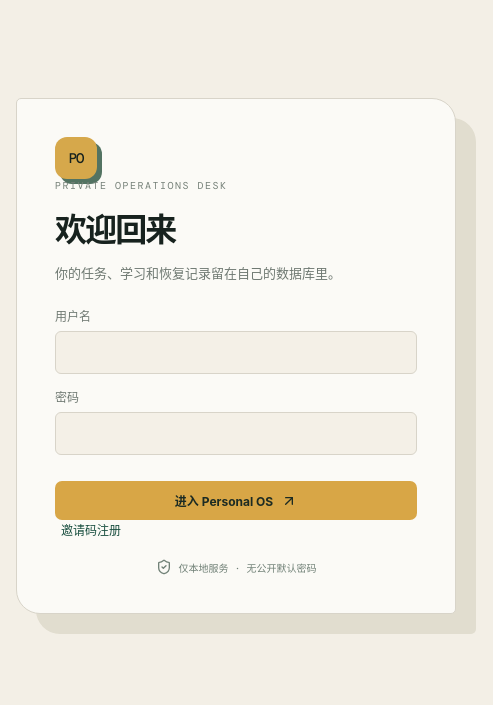
Personal OS authenticated task workflow › does not automatically retry an uncertain registration response and explains login recovery
The width and height of the screenshot is (493, 705).
(page scrolled)
Click the button "邀请码注册" at (91, 530), box left=55, top=520, right=127, bottom=539
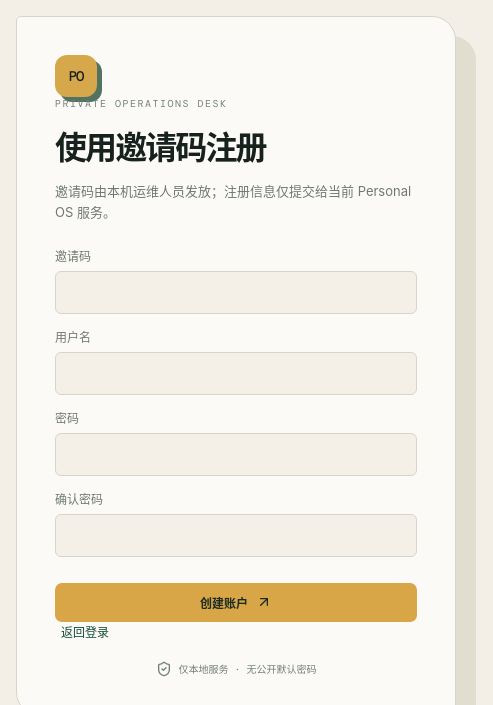
Type "synthetic-invitation" into the field labelled "邀请码" at (236, 292), box left=55, top=271, right=417, bottom=314
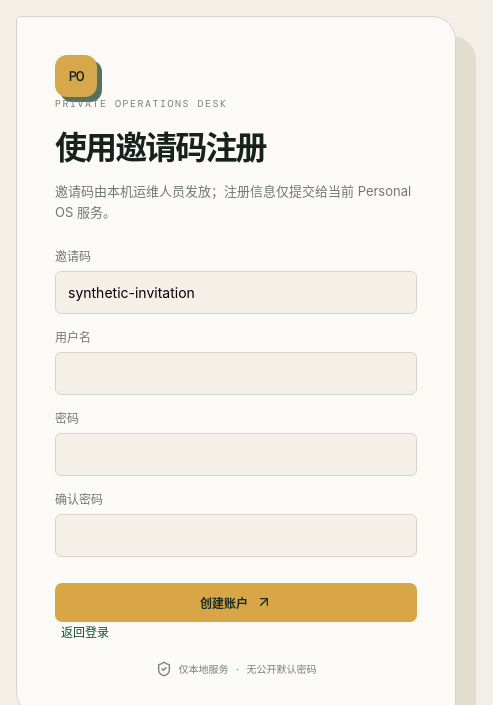
Type "new.user" into the field labelled "用户名" at (236, 373), box left=55, top=352, right=417, bottom=395
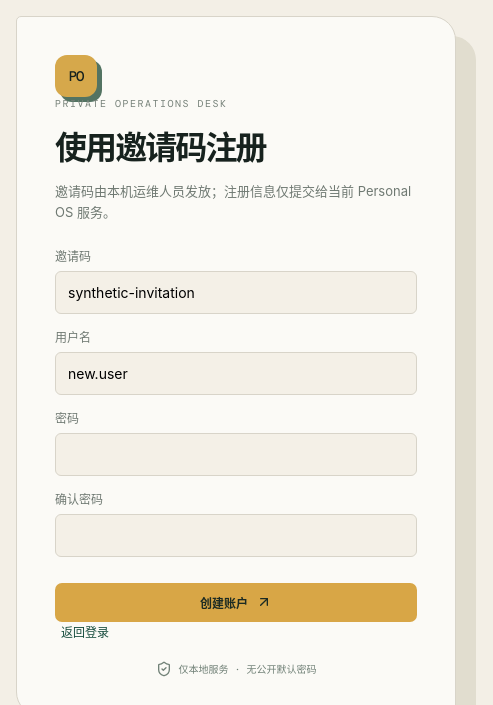
Type "Strong-Password-2026!" into the password field labelled "密码" at (236, 454), box left=55, top=433, right=417, bottom=476
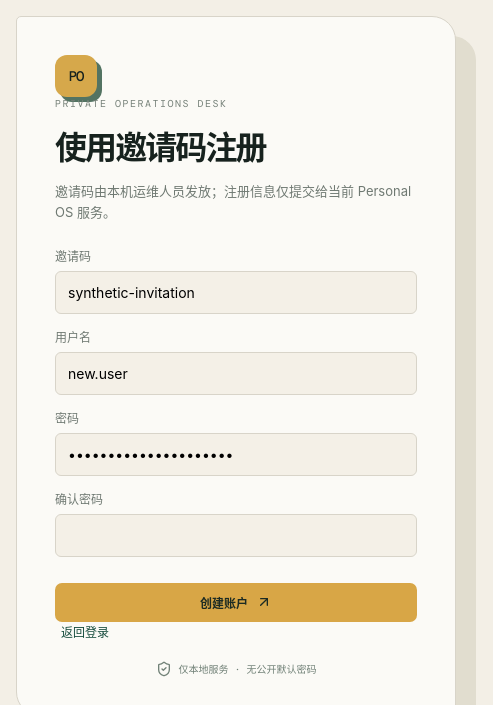
Type "Strong-Password-2026!" into the password field labelled "确认密码" at (236, 535), box left=55, top=514, right=417, bottom=557
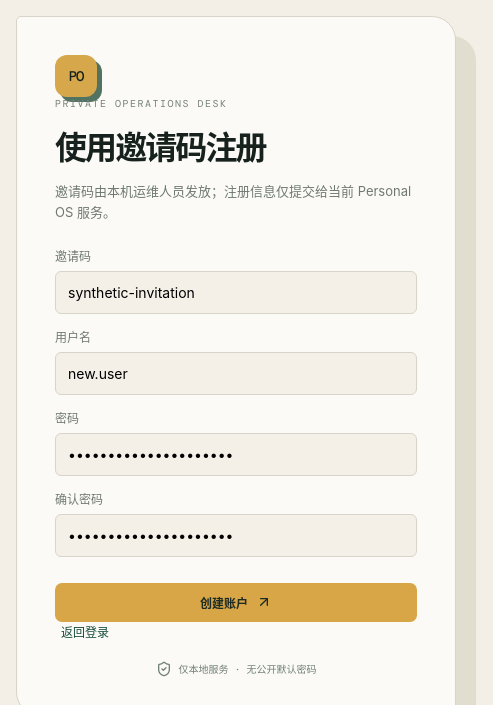
Click the button "创建账户" at (236, 602), box left=55, top=583, right=417, bottom=622
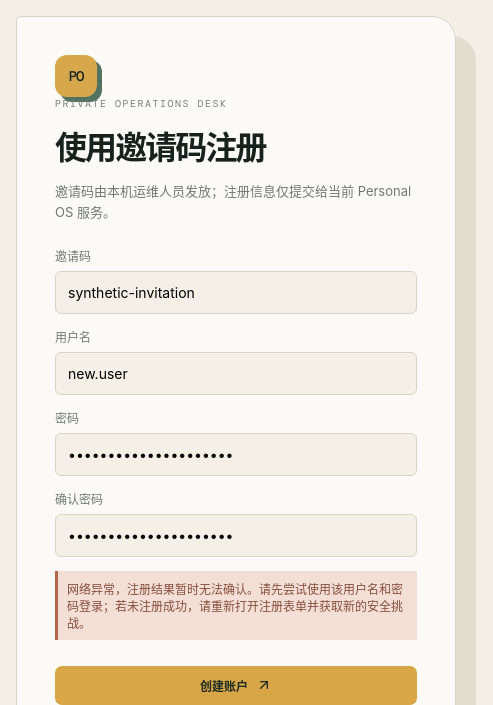
expect the message shows "请先尝试使用该用户名和密码登录": met, box left=67, top=582, right=403, bottom=631
